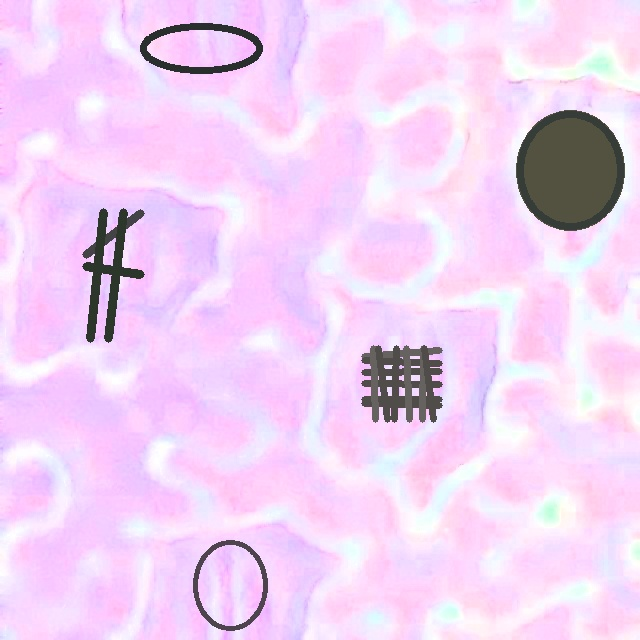open: (516, 110, 624, 229), (83, 209, 143, 341), (193, 540, 267, 630), (139, 22, 263, 75), (361, 345, 442, 422)
